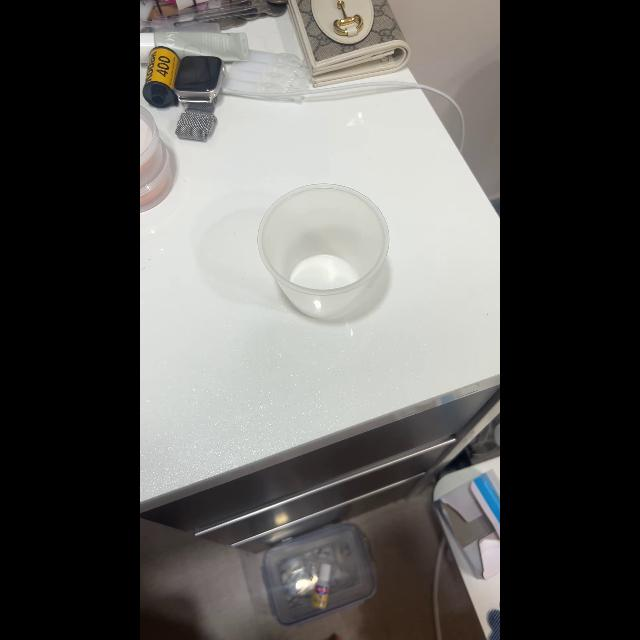clean: (254, 184, 386, 320)
